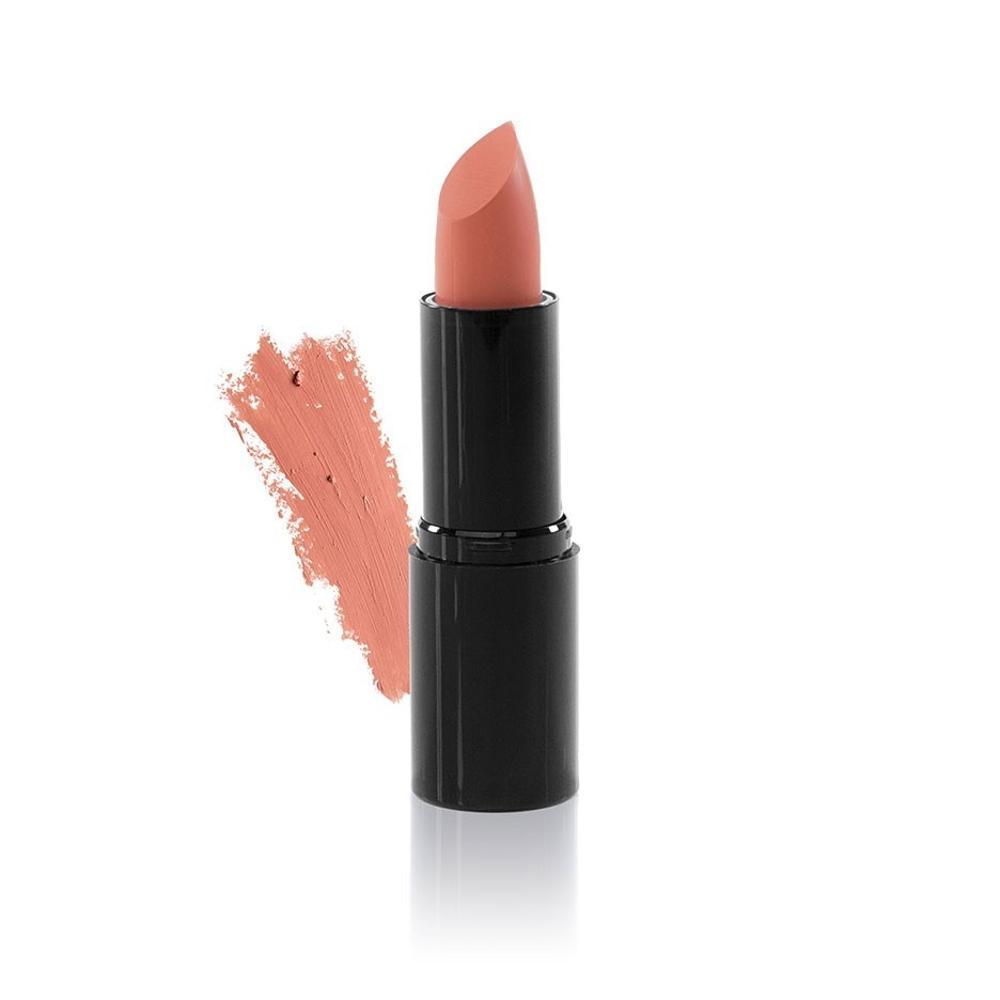lipstick: (354, 101, 636, 820)
